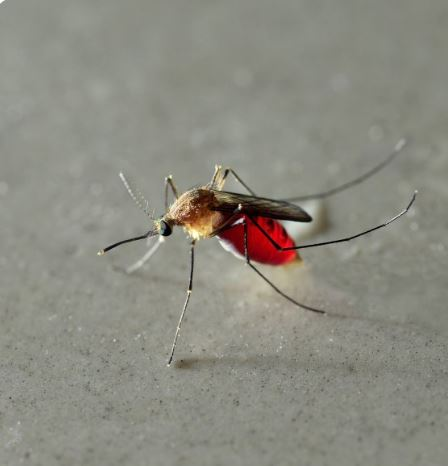dengue_mosquito: (98, 164, 374, 313)
